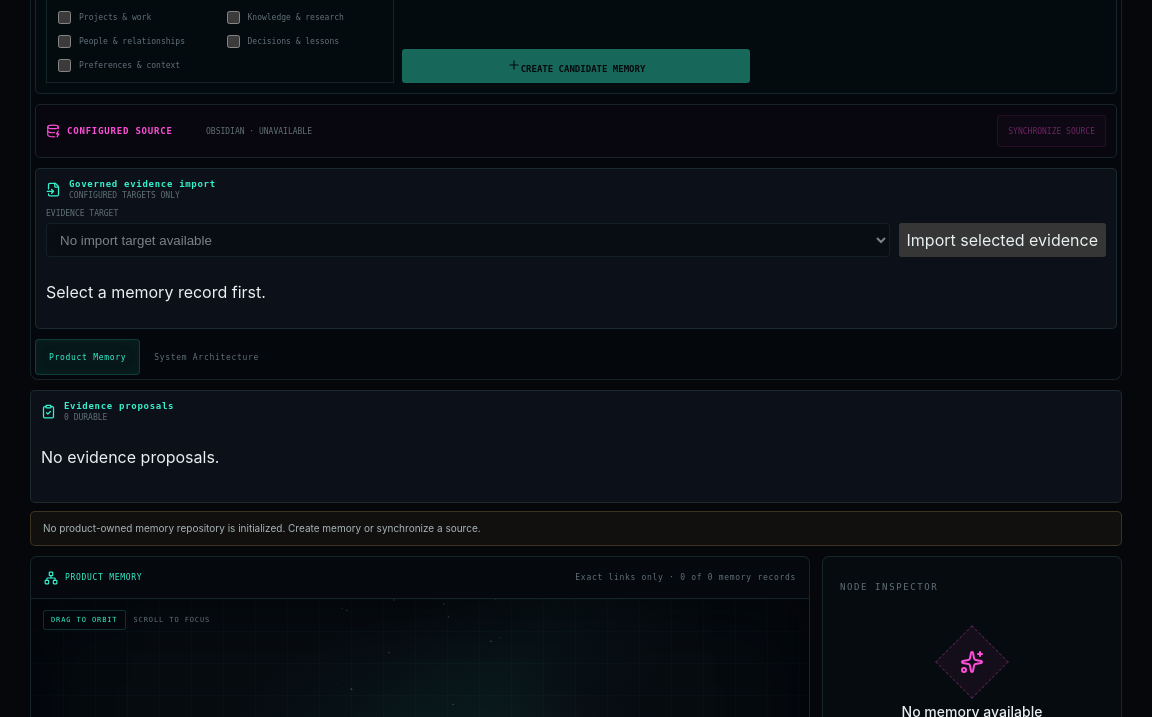
Test: MemoryWorkspace › surfaces unavailable memory while keeping empty architecture containers truthful
(page scrolled)
Expected: the text "No product-owned memory repository is initialized" is shown, 43,522 -> 481,534
Click the button "System Architecture": click(207, 357) 140,339 -> 273,375
(page scrolled)
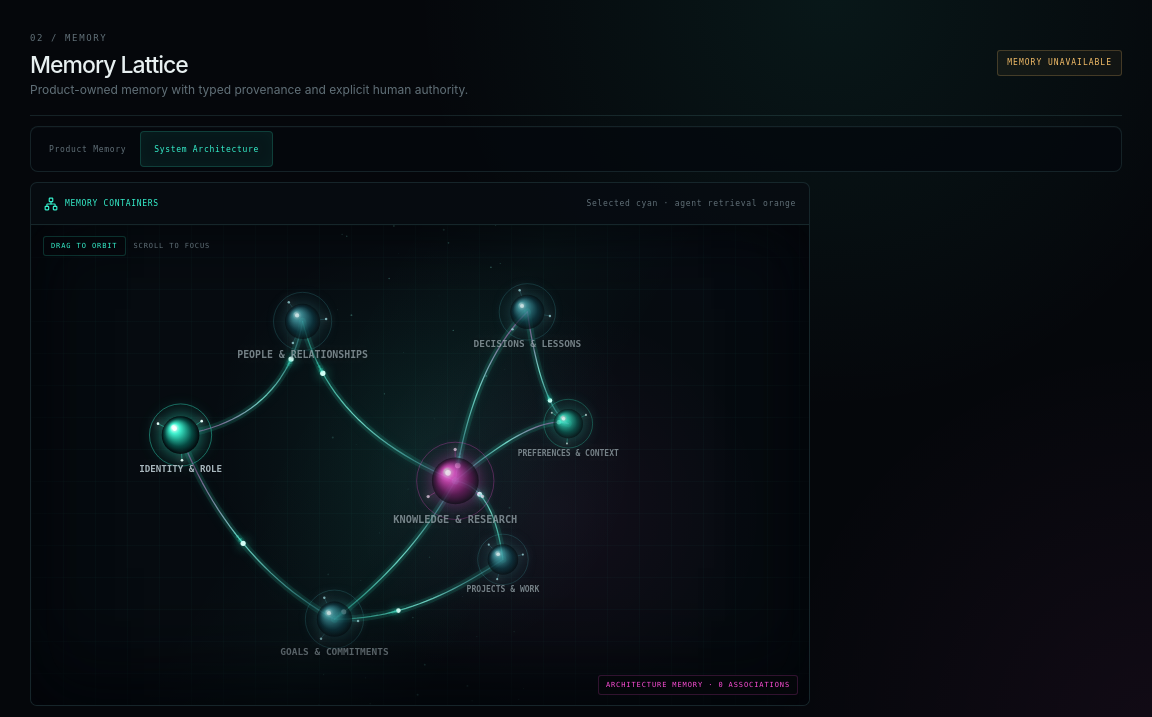
Expected: the picture named "System architecture memory map" is shown, 31,225 -> 809,705
Expected: the text "ARCHITECTURE MEMORY · 0 ASSOCIATIONS" is shown, 598,675 -> 798,695
